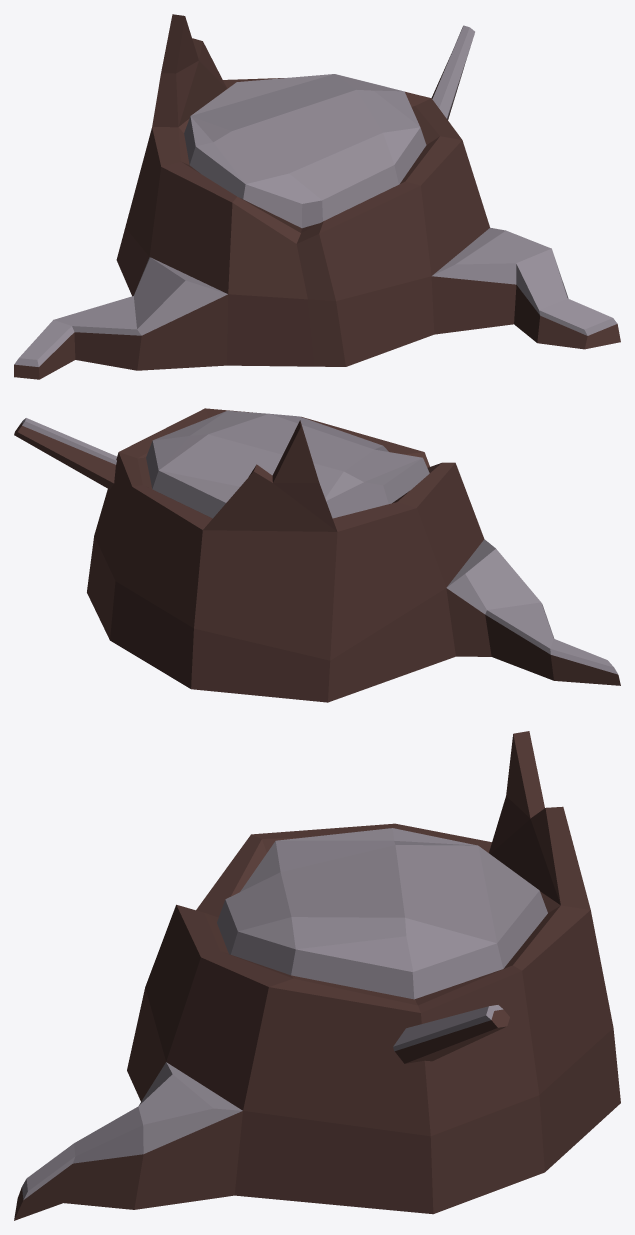
The model's file is nature_tree_stump_snow.glb.
3 views of the same model, one above another, from view 1: azimuth 30°, elevation 25°; view 2: azimuth 150°, elevation 25°; view 3: azimuth 270°, elevation 25° (orthographic). The views are drawn at different scales.
Parts seen in each view (by area): view 1: TreeStump_Snow; view 2: TreeStump_Snow; view 3: TreeStump_Snow.
Boxes of the visible parts, box(x1,y1,x2,y2) form: TreeStump_Snow: box(14, 14, 620, 379); TreeStump_Snow: box(14, 408, 620, 702); TreeStump_Snow: box(14, 731, 620, 1220).
Size of the model in its own units: 1.36 by 0.6216 by 1.03.
